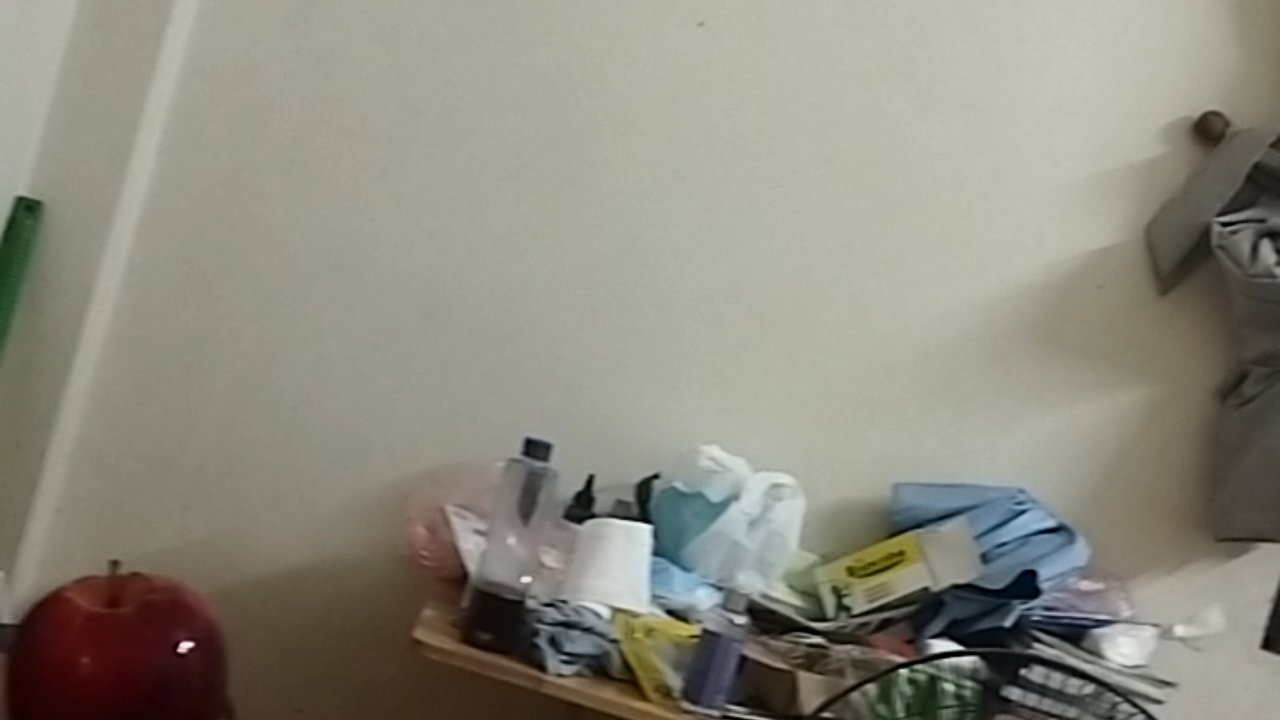apple_fresh: (5, 560, 231, 720)
